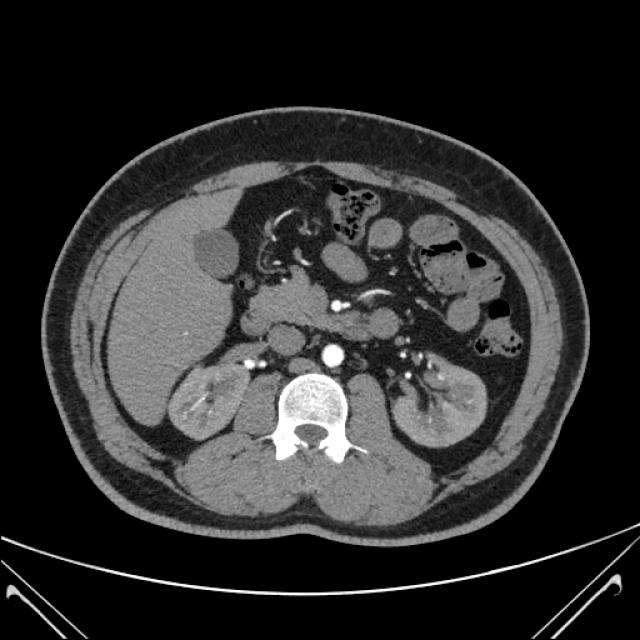Kidney: (50, 126, 585, 529)
